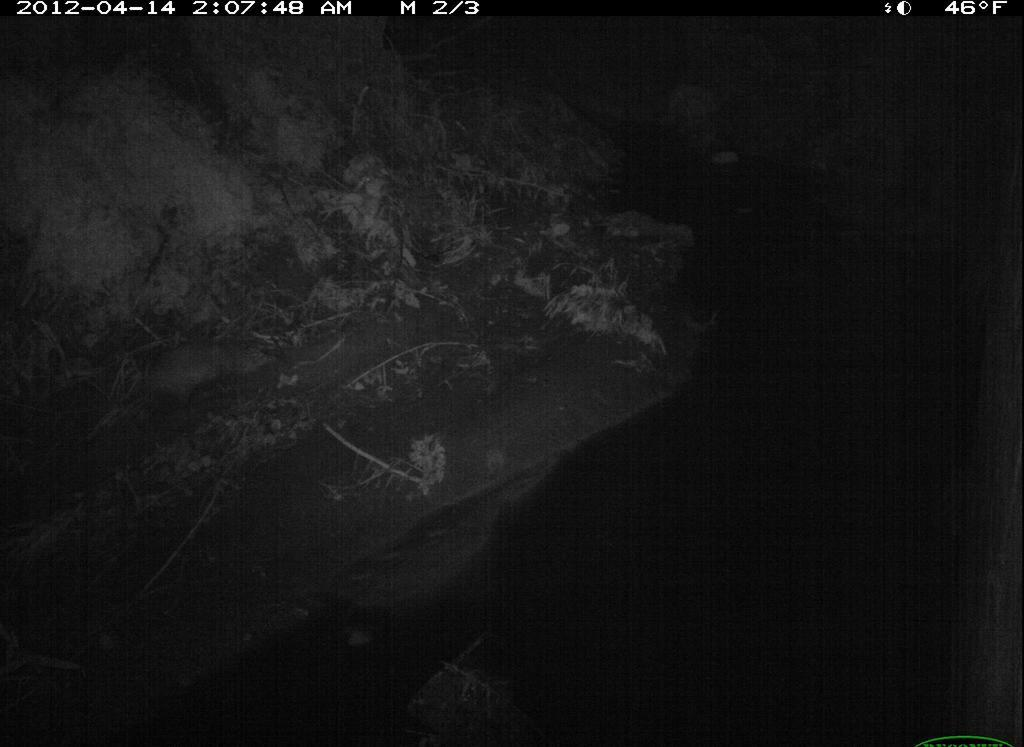opossum: (97, 332, 268, 421)
